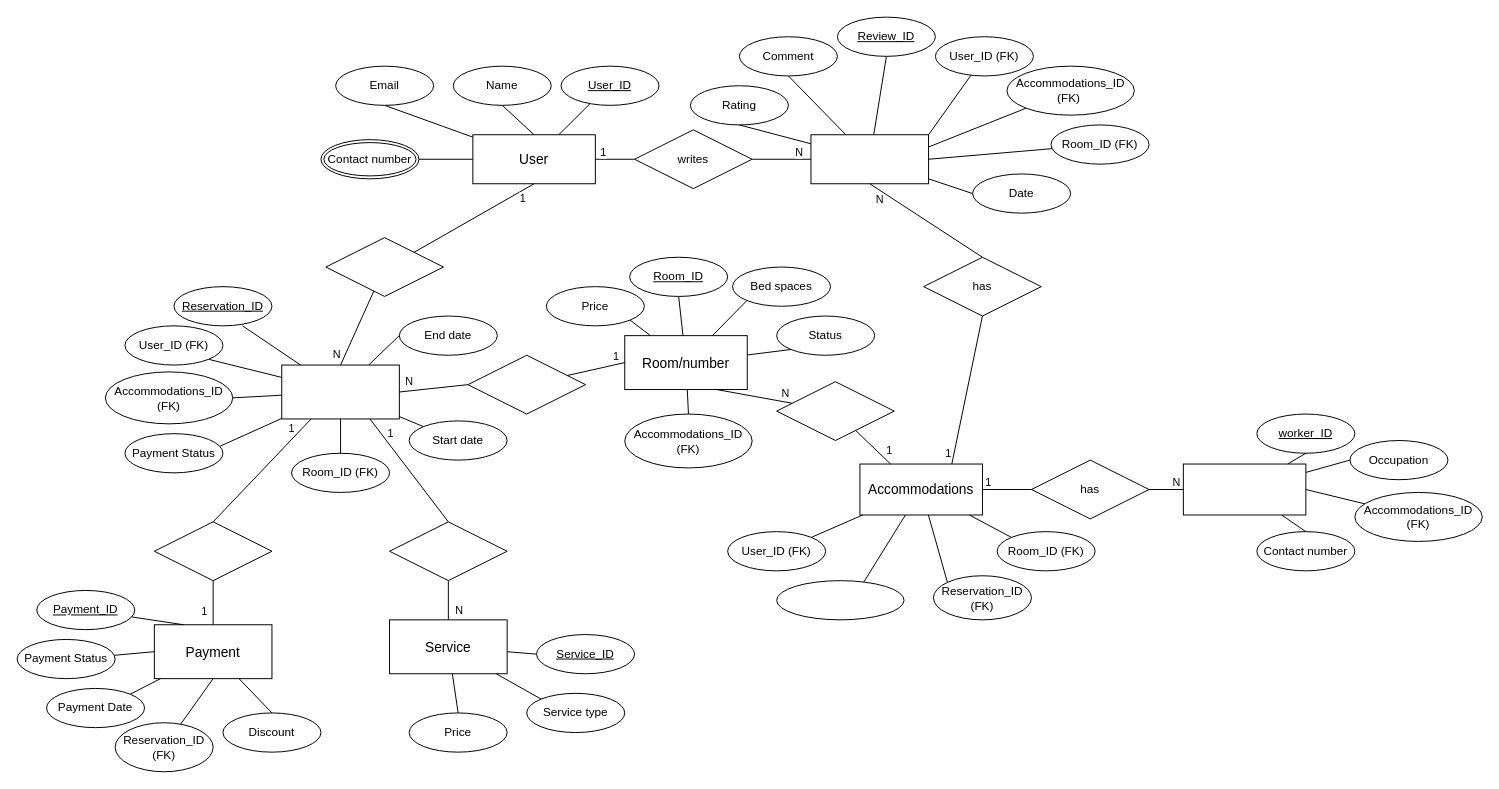
The diagram is 1499 pixels wide and 789 high, and some of its shapes have lost their labels. Each missing label, with the box of its shape:
Accommodations_ID: (776, 580, 904, 620)
books: (467, 354, 586, 414)
contains: (776, 381, 894, 441)
includes: (389, 521, 507, 581)
makes: (325, 237, 443, 296)
pays for: (153, 521, 272, 581)
Reservation: (281, 364, 399, 419)
Review: (810, 134, 929, 184)
Staff: (1182, 463, 1306, 515)
